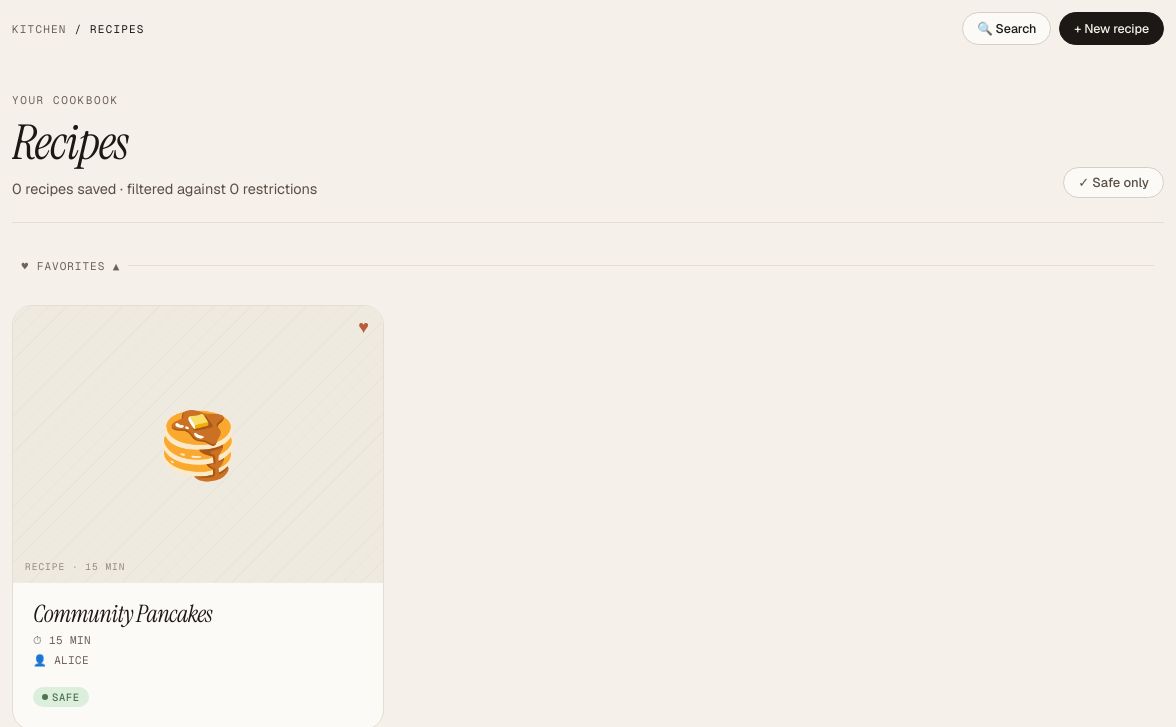
it: RecipesScreen – favorites section › shows the Save to favorites button in the favorite detail view
Click the text "Community Pancakes" at (122, 614), box [33,598,212,630]
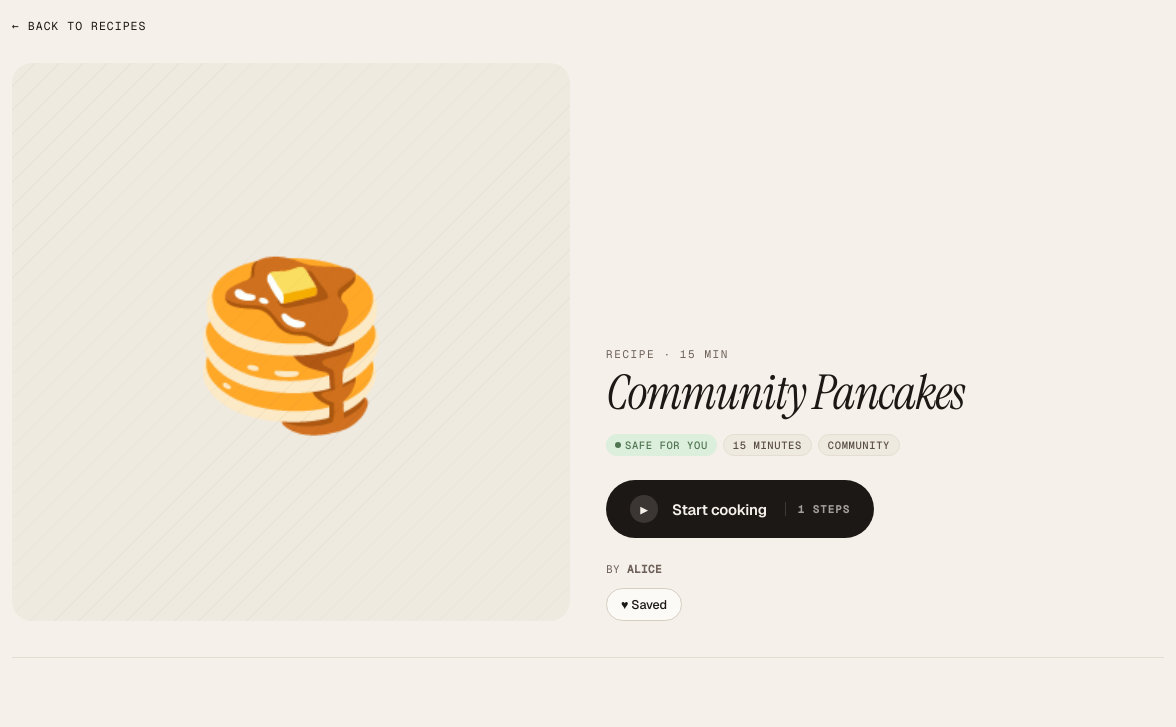
Expected: the button "♥ Saved" is shown, [606,588,682,621]
